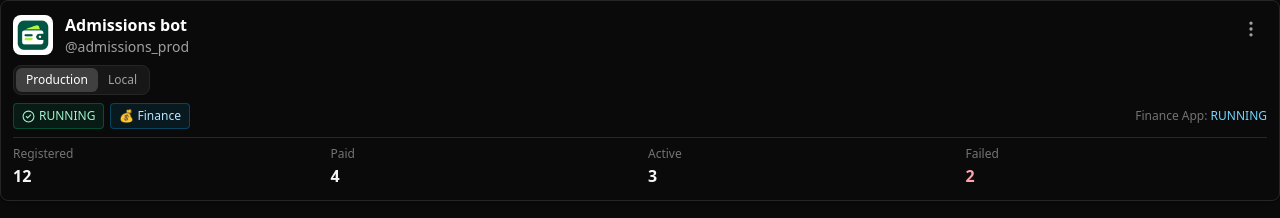
Test: TelegramBotCard › keeps runtime setup separate while sharing finance metrics
Expected: the text "@admissions_prod" is shown, [65,37,189,57]
Expected: the tab "Production" is shown, [16,68,98,92]
Step 1. Click the tab "Local" → (122, 80), box [98,68,147,92]
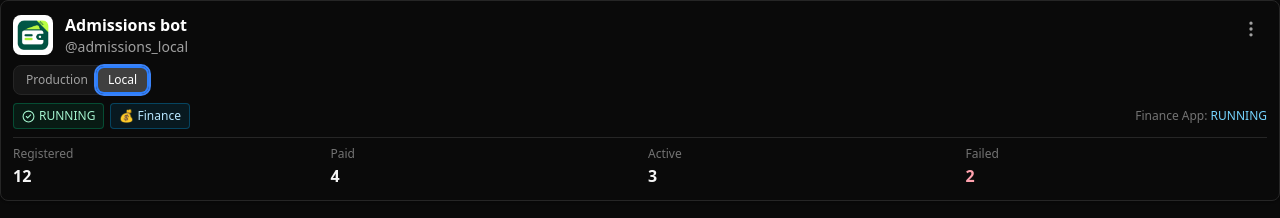
Result: the text "@admissions_local" is shown at [65,37,188,57]
